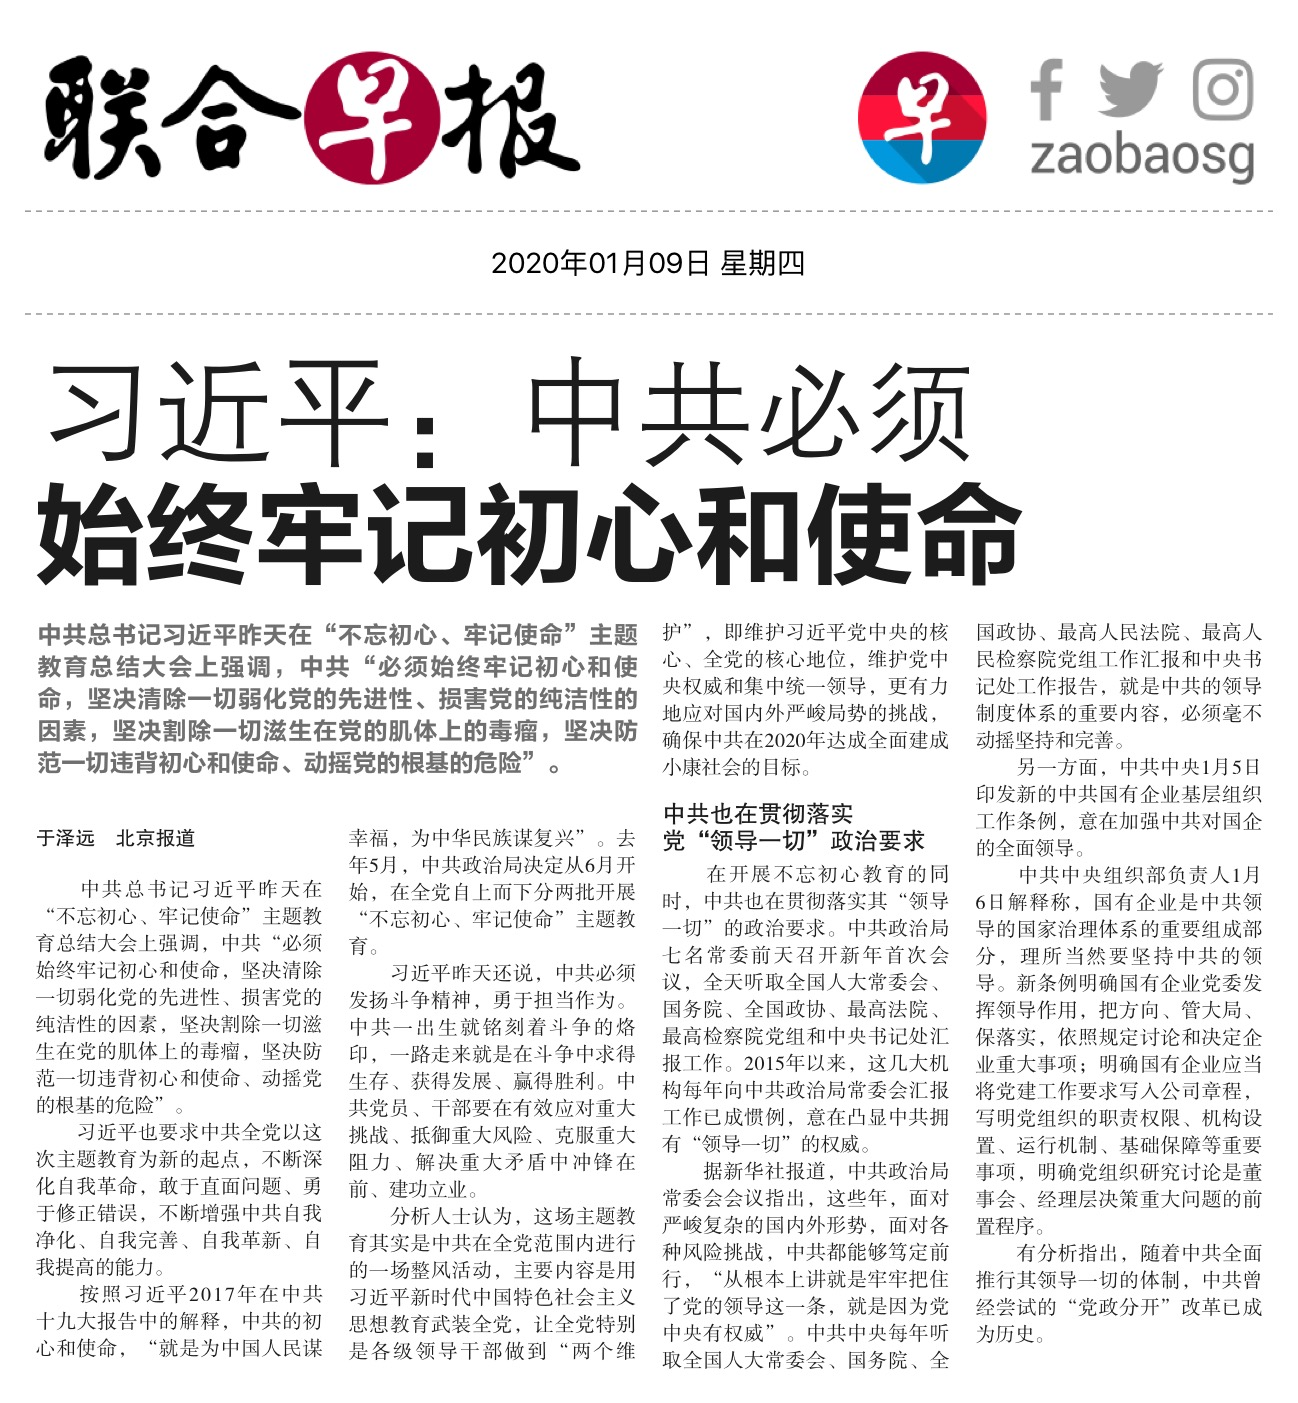heading: (31, 345, 1033, 601)
